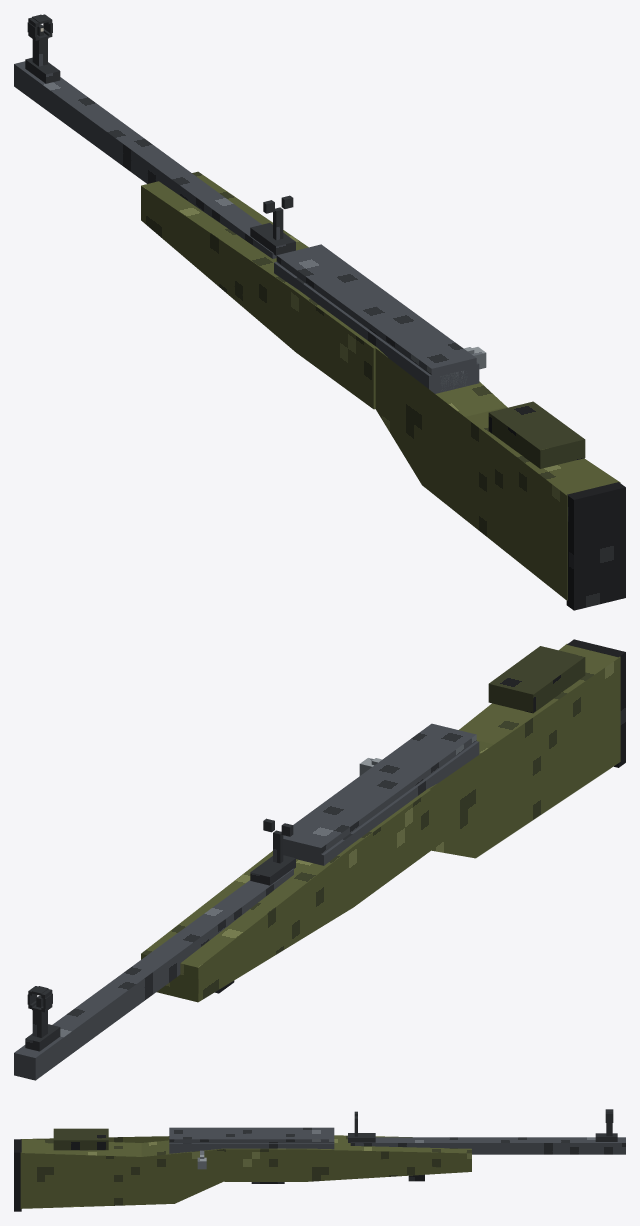
The model's file is lancer.glb.
3 views of the same model, one above another, from view 1: azimuth 30°, elevation 25°; view 2: azimuth 150°, elevation 25°; view 3: azimuth 270°, elevation 25° (orthographic). The views are drawn at different scales.
Parts seen in each view (by area): view 1: Body, Irons; view 2: Body, Irons; view 3: Body, Irons.
Boxes of the visible parts, x1,y1,x2,y2 form: Body: (14,57,625,610); Irons: (27,14,293,240); Body: (14,639,625,1080); Irons: (27,818,293,1037); Body: (14,1127,625,1211); Irons: (354,1109,613,1136).
Bounding box in the file's own units: 0.098 × 0.188 × 1.11.
Materials: 7 (7 with a texture image).
